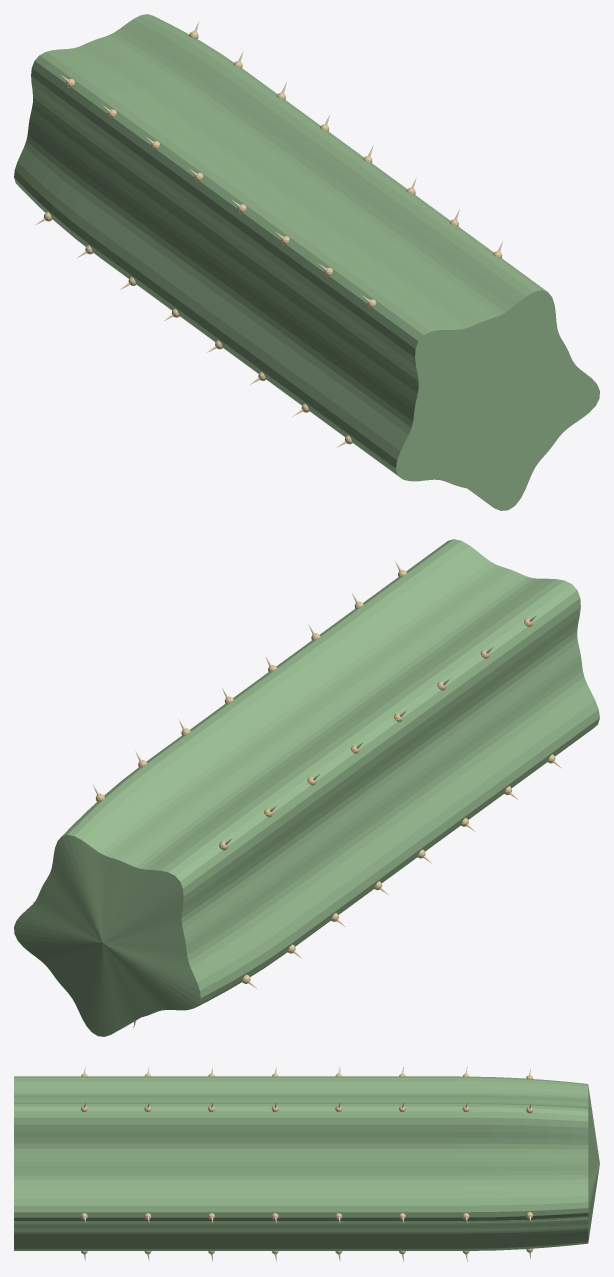
Rendered from pachanoi-geometry-nodes-frame1.glb.
The picture shows the model from 3 angles, top to bottom: view 1: azimuth 30°, elevation 25°; view 2: azimuth 150°, elevation 25°; view 3: azimuth 270°, elevation 25°; orthographic projection. The views are drawn at different scales.
Visible parts, largest first — view 1: WACHUMA_Pachanoi_GN_Baked; view 2: WACHUMA_Pachanoi_GN_Baked; view 3: WACHUMA_Pachanoi_GN_Baked.
Boxes of the visible parts, <box> form: WACHUMA_Pachanoi_GN_Baked: <box>14,14,599,510</box>; WACHUMA_Pachanoi_GN_Baked: <box>14,539,599,1036</box>; WACHUMA_Pachanoi_GN_Baked: <box>14,1066,599,1261</box>.
Bounding box in the file's own units: 0.8667 × 0.8604 × 2.6.
